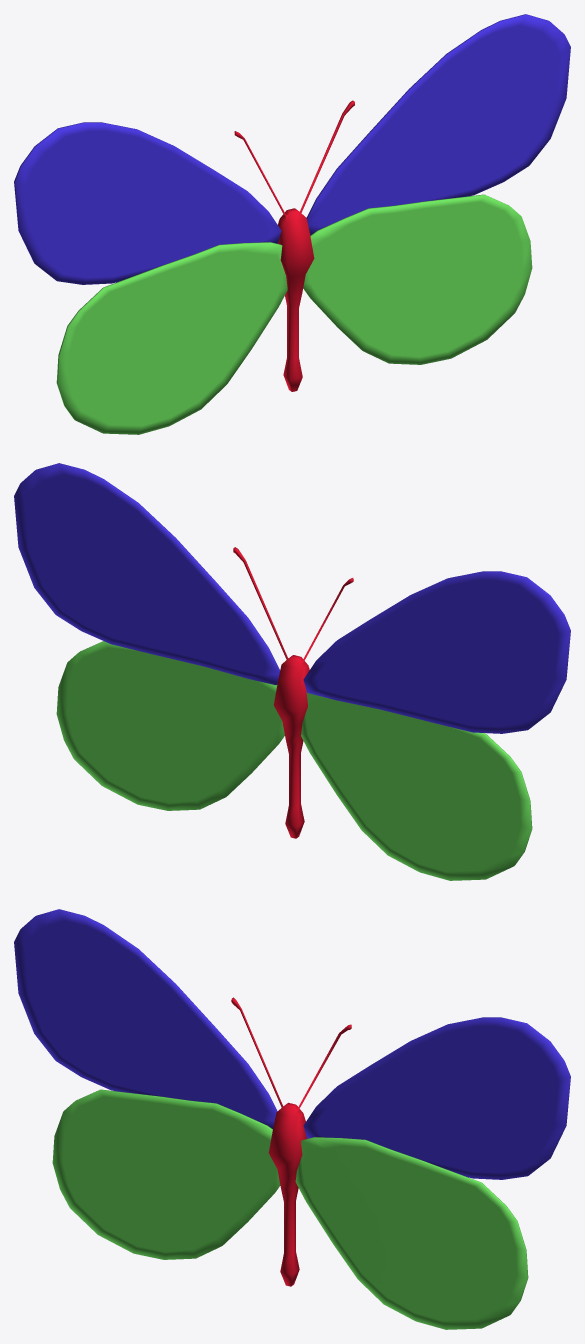
File: woodWhite.fbx
3 views of the same model, one above another, from view 1: azimuth 30°, elevation 25°; view 2: azimuth 150°, elevation 25°; view 3: azimuth 330°, elevation 25° (orthographic).
Visible parts, largest first — view 1: Plane; view 2: Plane; view 3: Plane.
Boxes of the visible parts, box(x1,y1,x2,y2) form: Plane: box(14, 14, 570, 434); Plane: box(14, 463, 570, 880); Plane: box(14, 909, 570, 1329).
Size of the model in its own units: 478 by 265 by 23.16.
